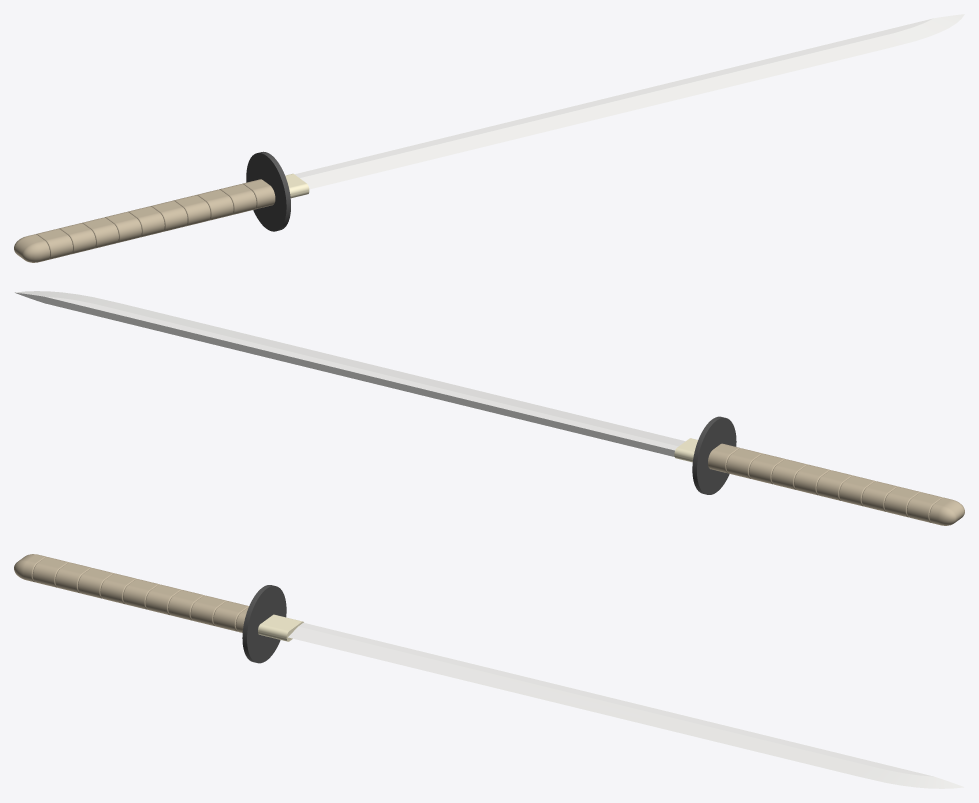
The model's file is Katana.glb.
3 renders of one model, top to bottom at view 1: azimuth 30°, elevation 25°; view 2: azimuth 150°, elevation 25°; view 3: azimuth 330°, elevation 25°, orthographic.
Parts seen in each view (by area): view 1: Body1, Body4, Body3; view 2: Body1, Body4, Body3; view 3: Body1, Body4, Body3, Body2.
Part boxes in pixels (<box>): Body1: <box>295,14,964,189</box>; Body4: <box>14,179,275,262</box>; Body3: <box>246,151,290,231</box>; Body1: <box>15,291,685,456</box>; Body4: <box>708,443,964,525</box>; Body3: <box>692,416,736,494</box>; Body1: <box>288,622,963,788</box>; Body4: <box>14,554,248,632</box>; Body3: <box>242,585,286,663</box>; Body2: <box>258,614,303,641</box>.
Size of the model in its own units: 1.04 by 0.076 by 0.076.
